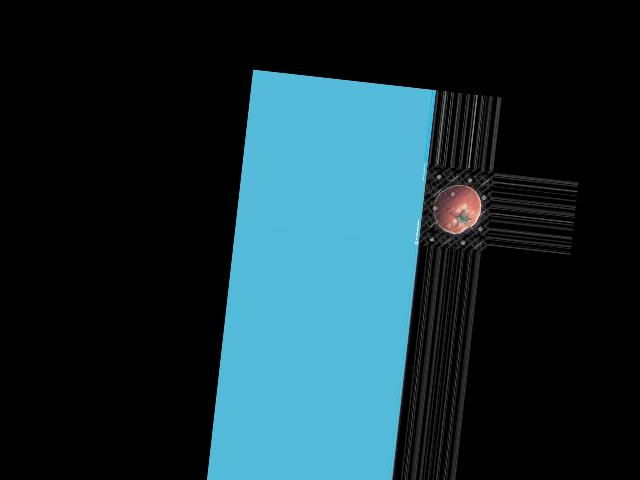tomato: (431, 181, 483, 236)
